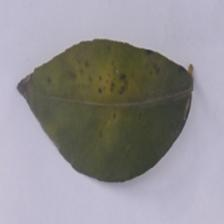black spot: (44, 51, 165, 134)
